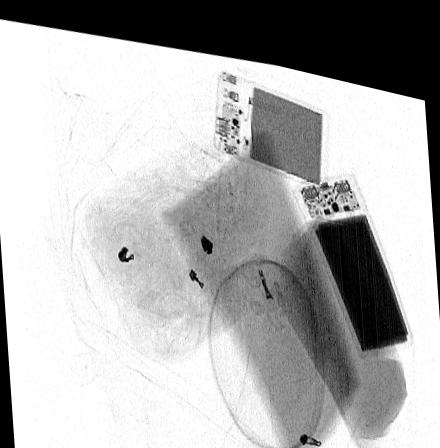Powerbank: (292, 156, 413, 337), (212, 58, 326, 175)
